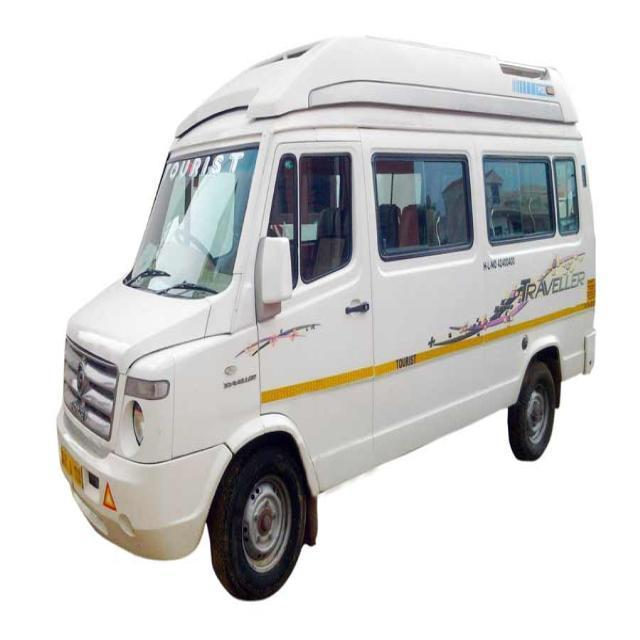van: (52, 29, 601, 606)
